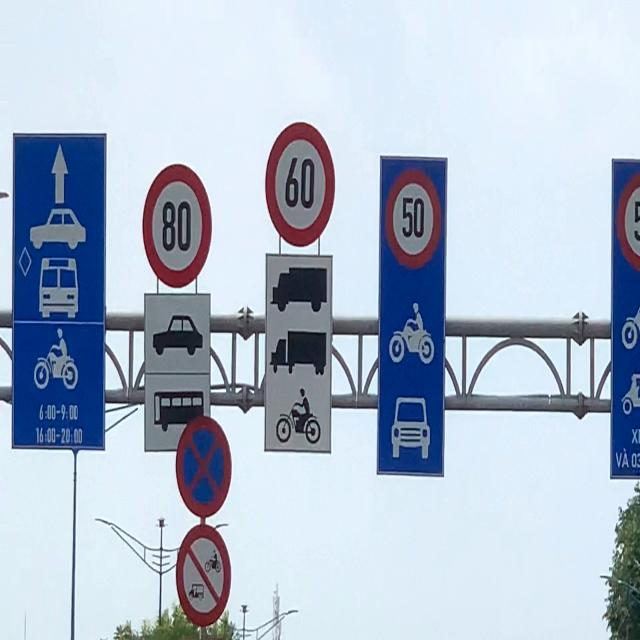P.127: (141, 153, 215, 288), (264, 119, 340, 250), (382, 163, 445, 273)
P.130: (173, 408, 234, 517)
